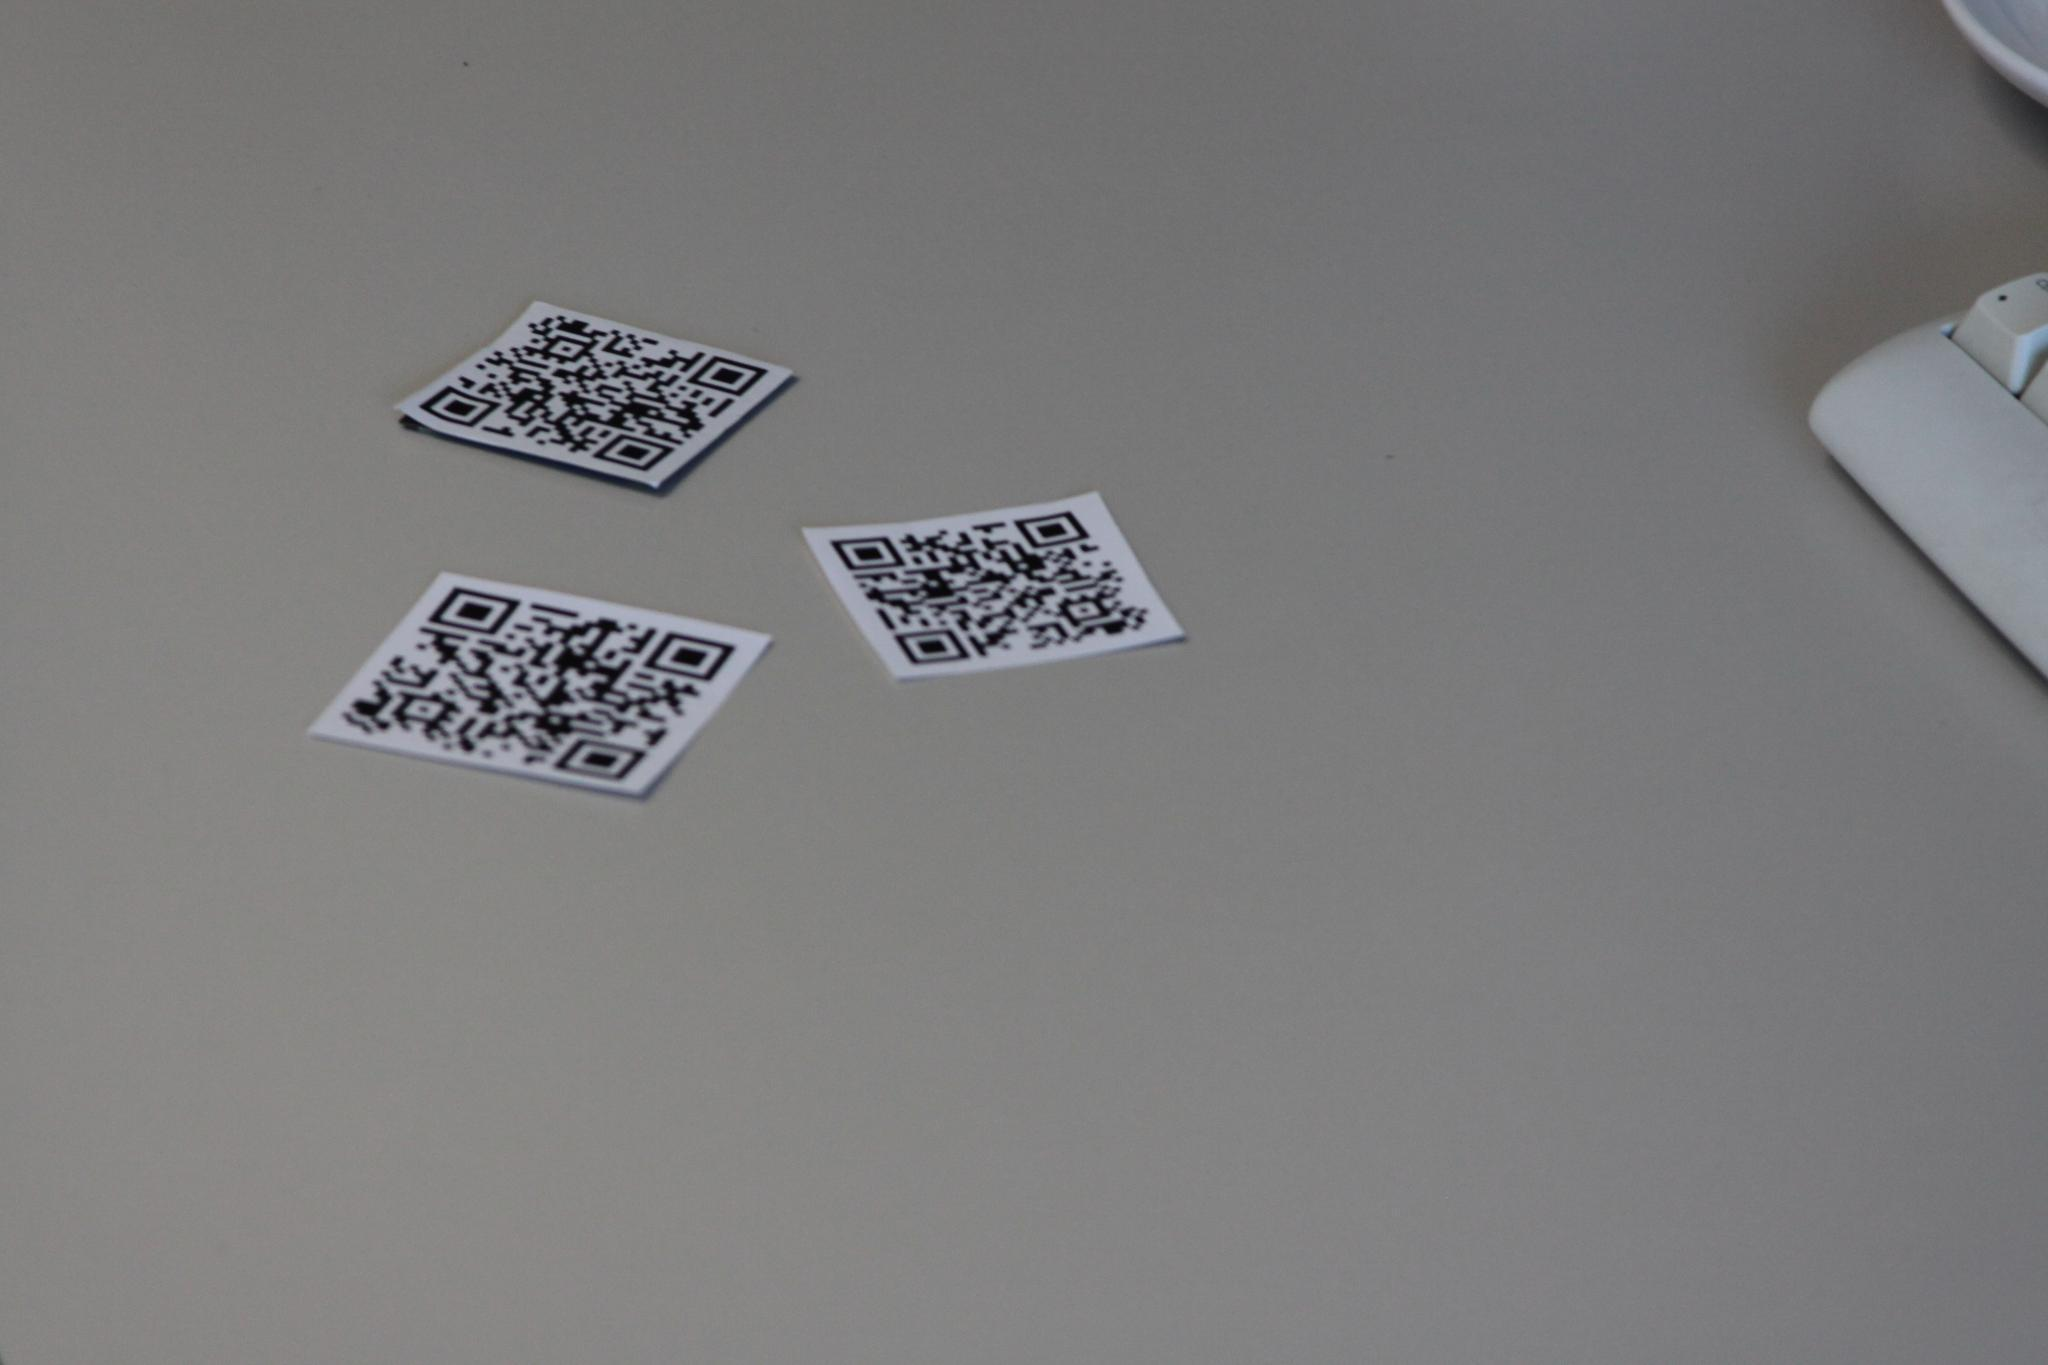Finder pattern: (542, 728, 653, 791), (640, 625, 746, 687), (423, 583, 521, 647), (681, 349, 770, 405), (413, 379, 504, 433), (588, 430, 681, 475)
